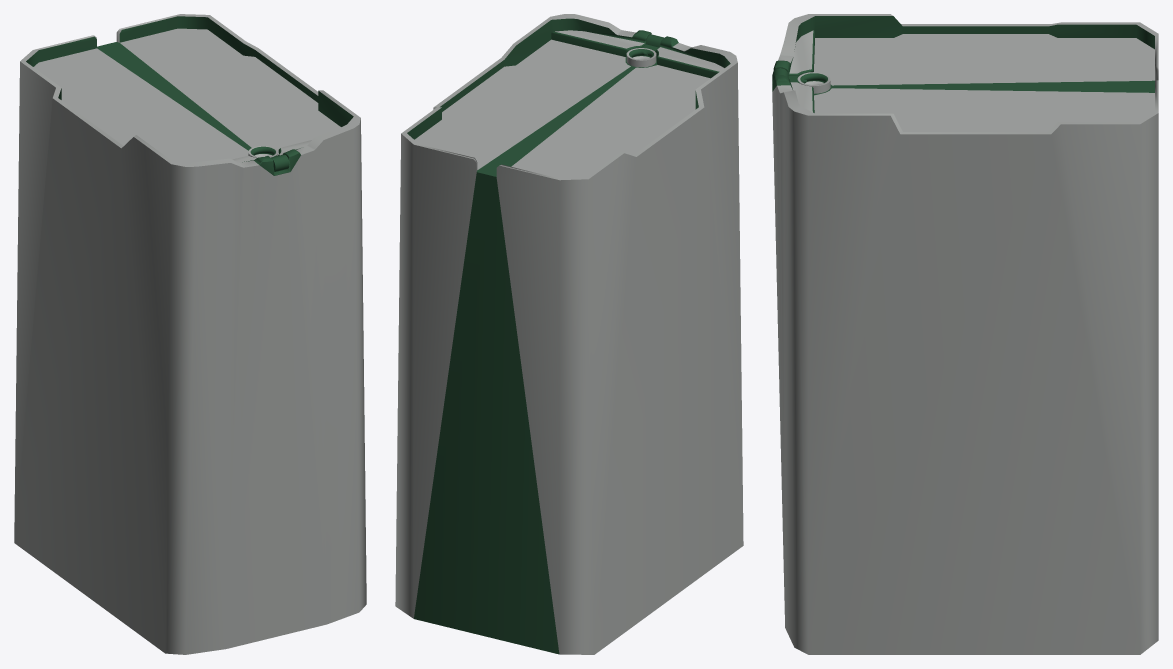
The model's file is Arena_round_door3_wide.fbx.
3 views of the same model, side by side, from view 1: azimuth 30°, elevation 25°; view 2: azimuth 150°, elevation 25°; view 3: azimuth 270°, elevation 25° (orthographic). The views are drawn at different scales.
Parts seen in each view (by area): view 1: arena, door; view 2: arena, door; view 3: arena, door.
Part boxes in pixels (<box>): arena: <box>14,14,366,654</box>; door: <box>248,145,289,171</box>; arena: <box>395,14,743,654</box>; door: <box>626,34,663,67</box>; arena: <box>772,14,1158,654</box>; door: <box>772,68,830,93</box>.
Bounding box in the file's own units: 1359 × 3081 × 2013.
